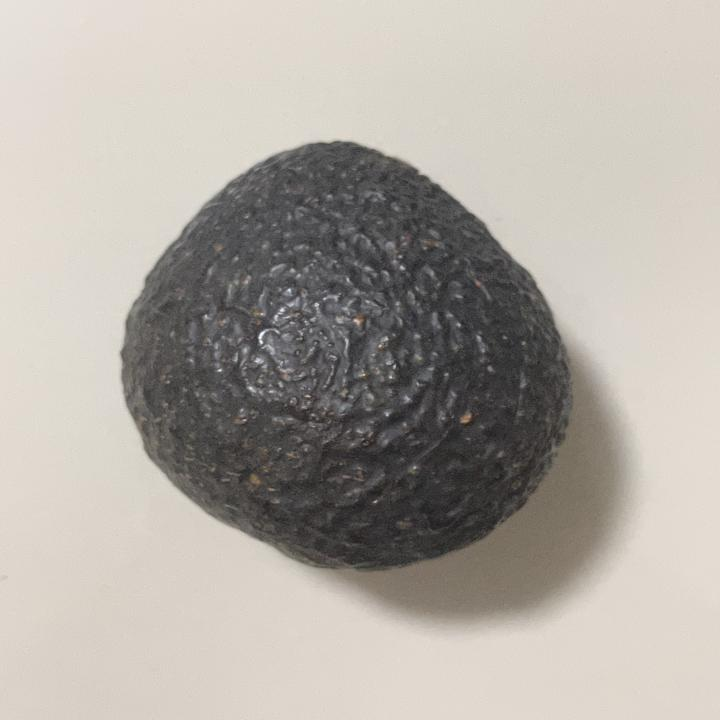Level2: (116, 134, 577, 577)
